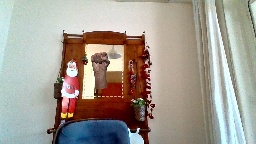Pugno: (88, 51, 111, 73)
